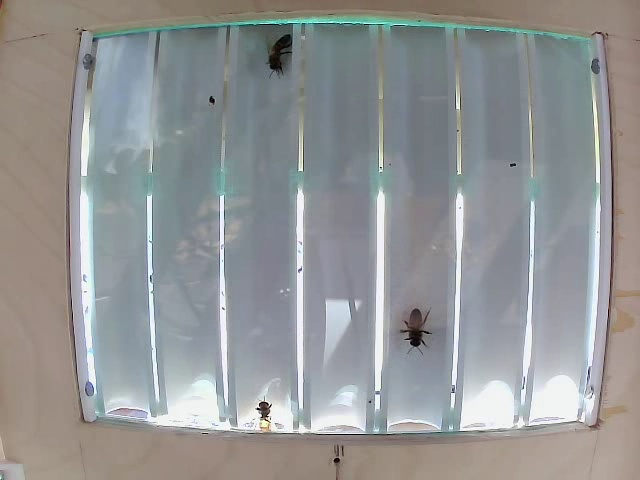bee: (398, 295, 435, 358), (263, 25, 296, 84)
